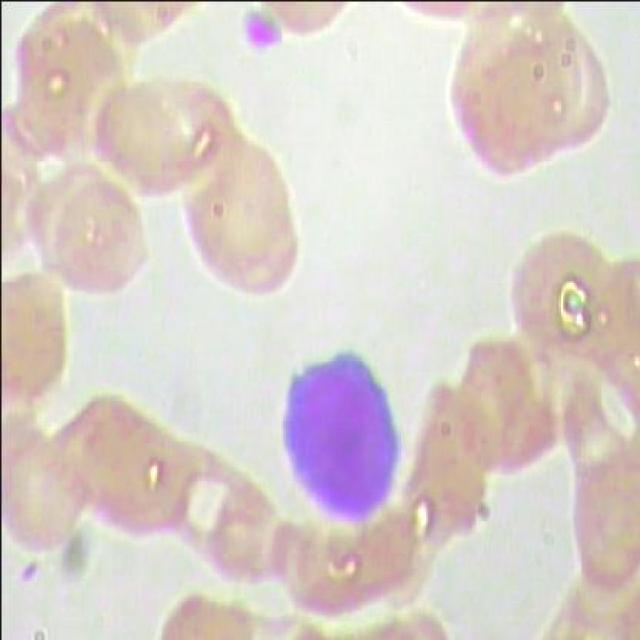RBC: (434, 1, 594, 187), (172, 127, 310, 302), (86, 76, 239, 206), (18, 160, 151, 303), (502, 225, 612, 364), (94, 418, 200, 554), (52, 389, 157, 525), (1, 425, 98, 560)
WBC: (270, 327, 412, 524)
